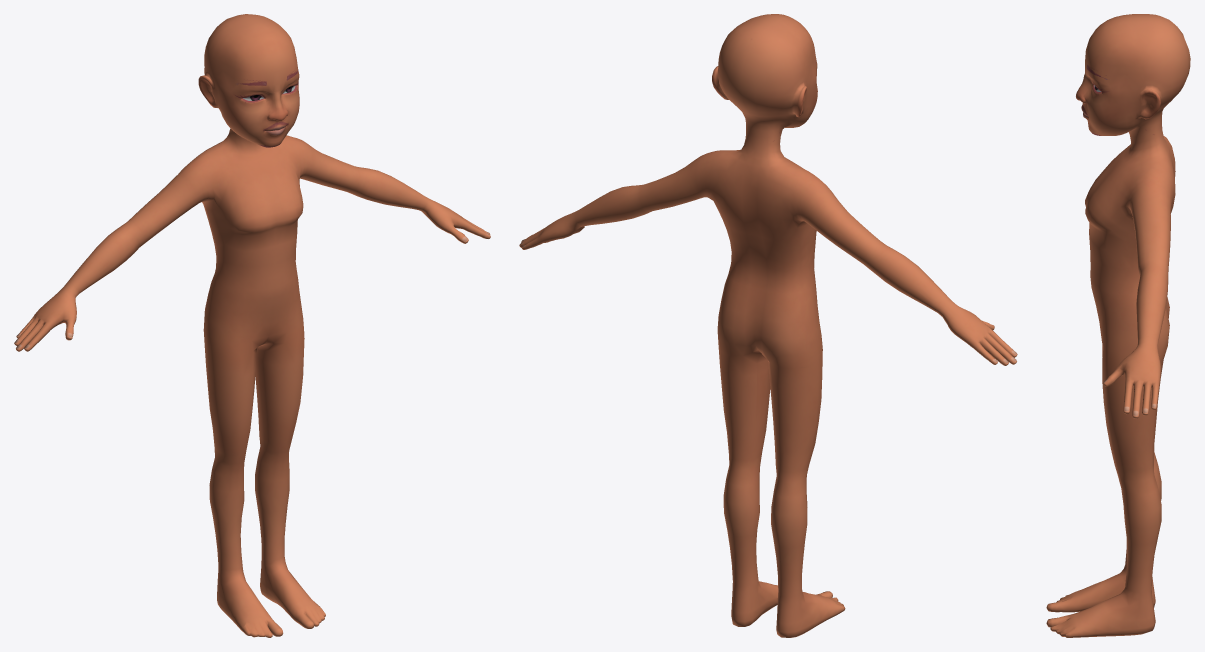
File: frame_0014.glb
3 views of the same model, side by side, from view 1: azimuth 30°, elevation 25°; view 2: azimuth 150°, elevation 25°; view 3: azimuth 270°, elevation 25° (orthographic). The views are drawn at different scales.
Visible parts, largest first — view 1: frame_0014_head_geo; view 2: frame_0014_head_geo; view 3: frame_0014_head_geo.
Part boxes in pixels (box(x1,y1,x2,y2)): frame_0014_head_geo: box(14, 14, 490, 637); frame_0014_head_geo: box(519, 14, 1017, 637); frame_0014_head_geo: box(1046, 14, 1190, 637).
Bounding box in the file's own units: 1.28 × 1.5 × 0.3253.
Materials: 3 (3 with a texture image).
